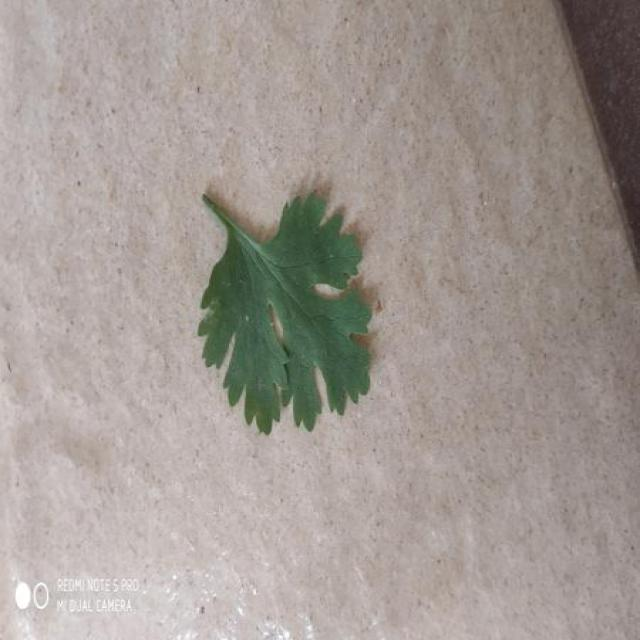coriender: (198, 194, 372, 433)
